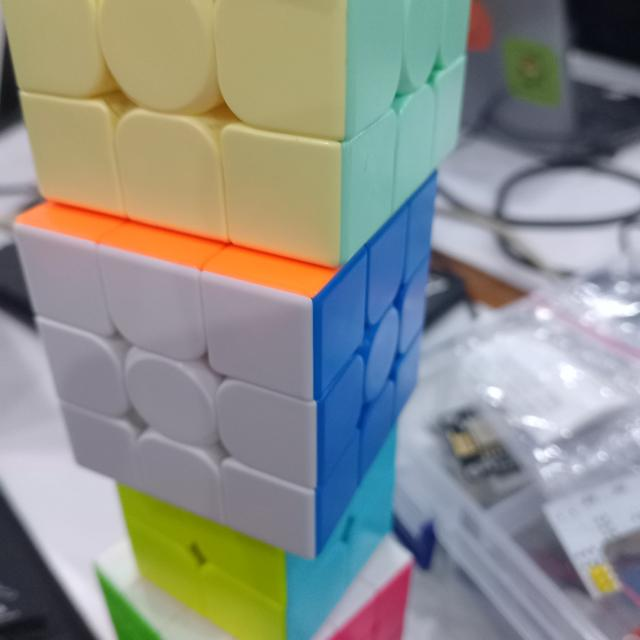back: (313, 170, 437, 557)
rubik: (10, 168, 439, 565), (0, 0, 472, 272)
up: (13, 222, 317, 559)
